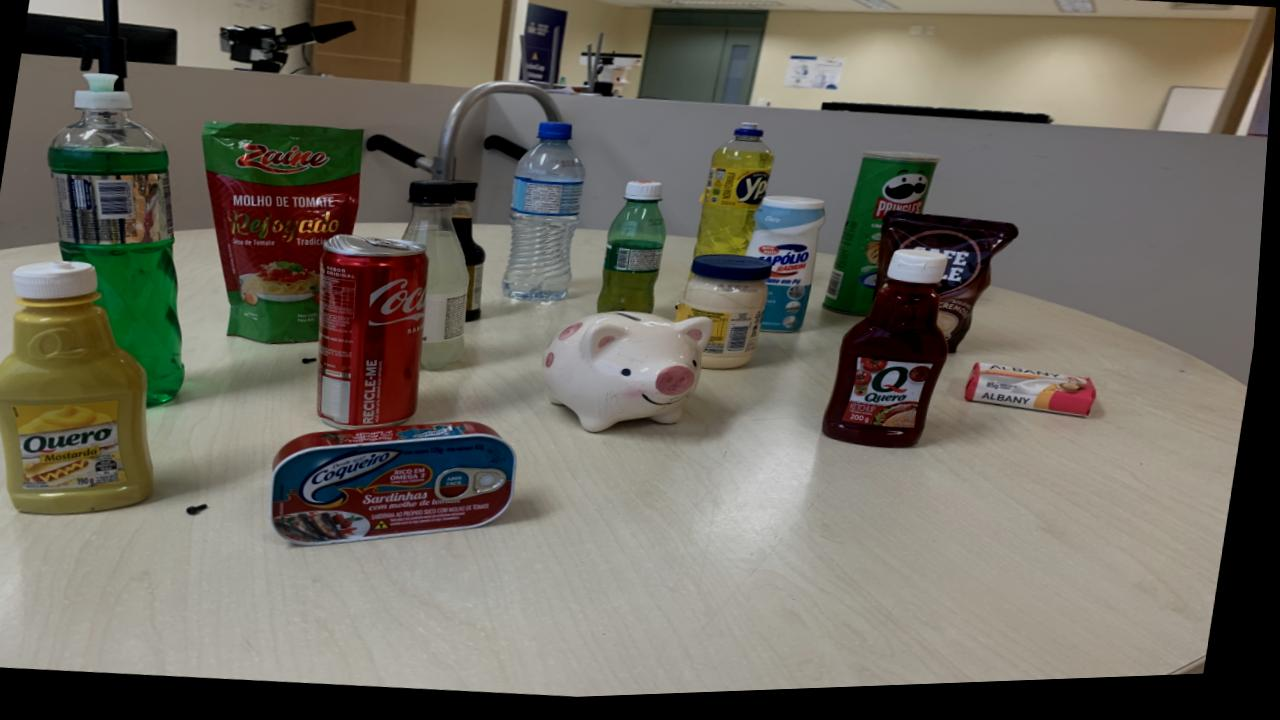Cleaner-Cleanup_Items: (750, 201, 828, 338)
Coffee-Pantry_Items: (880, 220, 1023, 361)
Coke-Drinks: (321, 238, 432, 432)
Detergent-Cleanup_Items: (49, 73, 190, 407), (49, 74, 190, 407), (697, 131, 776, 263)
English_Sauce-Pantry_Items: (455, 185, 488, 326)
Guarana-Drinks: (601, 186, 670, 319)
Ketchup-Pantry_Items: (828, 256, 954, 455)
Mayonnaise-Pantry_Items: (681, 260, 776, 375)
Mustard-Pantry_Items: (0, 262, 160, 515)
Pig_Safe-Miscellaneous: (548, 316, 718, 437)
Pringles-Snacks: (828, 158, 941, 322)
Soap-Cleanup_Items: (970, 370, 1102, 426)
Soda-Drinks: (405, 183, 474, 374)
Tomato_Sauce-Pantry_Items: (204, 123, 365, 346)
Tuna_Can-Pantry_Items: (277, 425, 522, 549)
Water_Bottle-Drinks: (505, 126, 587, 306)
